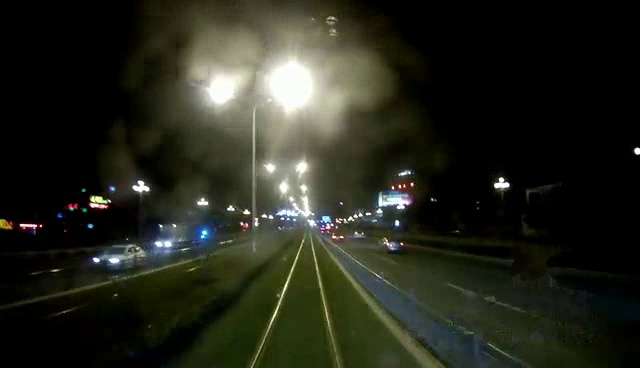car: (100, 242, 149, 273), (375, 234, 412, 255)
